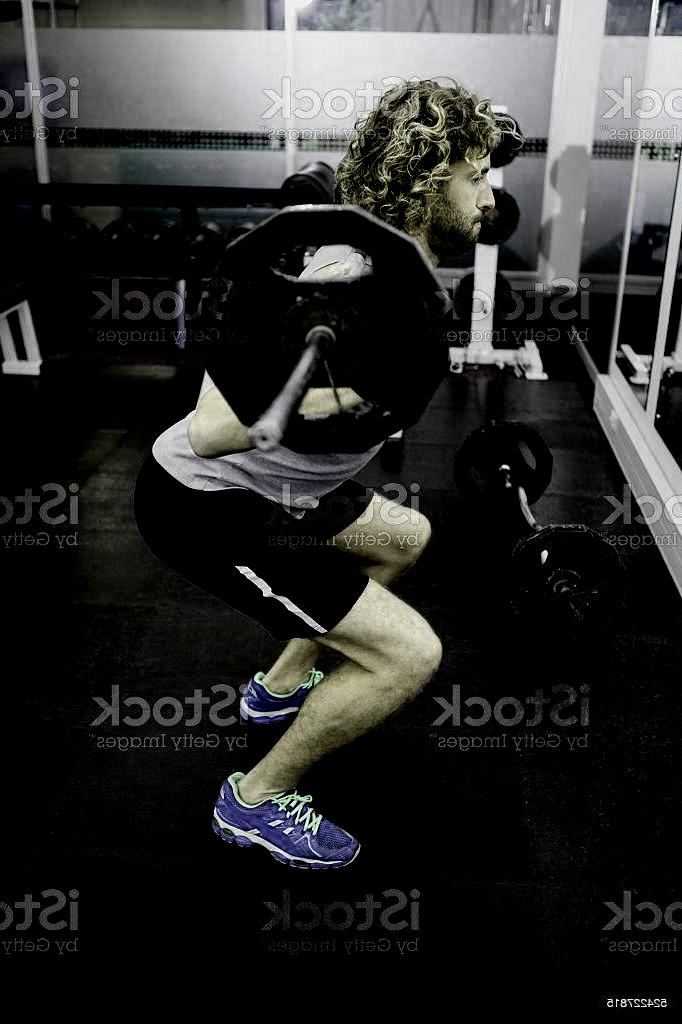Barbell: (237, 401, 286, 471)
